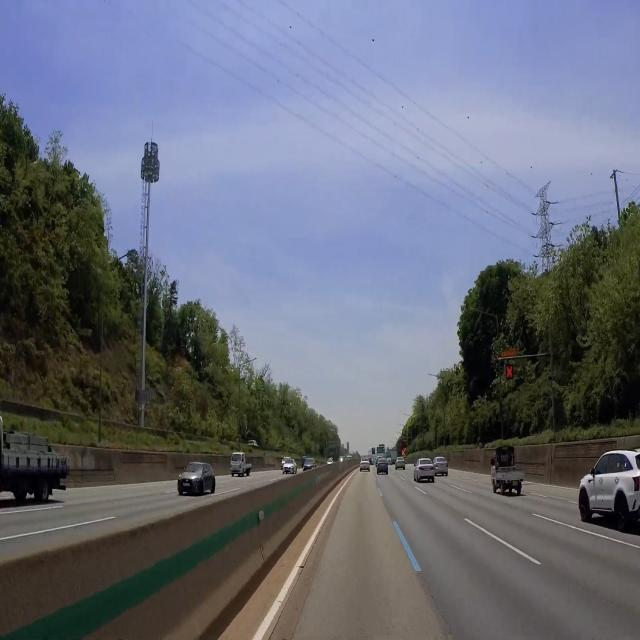car: (180, 477, 193, 494), (283, 463, 291, 475), (511, 478, 520, 488), (232, 466, 240, 475), (423, 465, 430, 472), (438, 463, 446, 469), (379, 463, 387, 469), (362, 464, 368, 471), (397, 462, 404, 467)
